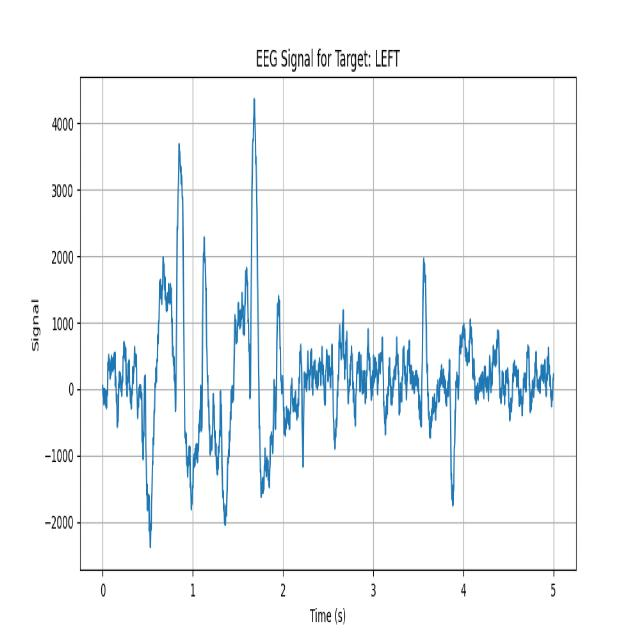LEFT: (218, 91, 282, 563), (137, 121, 193, 561)
